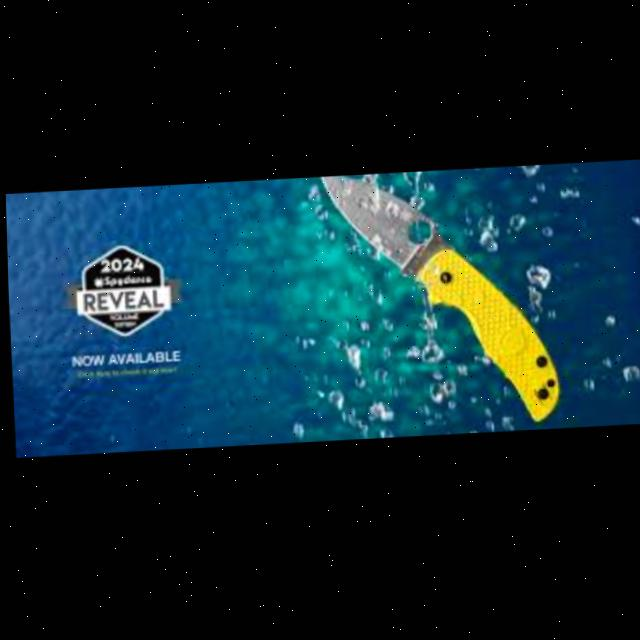Knife: (316, 168, 558, 435)
